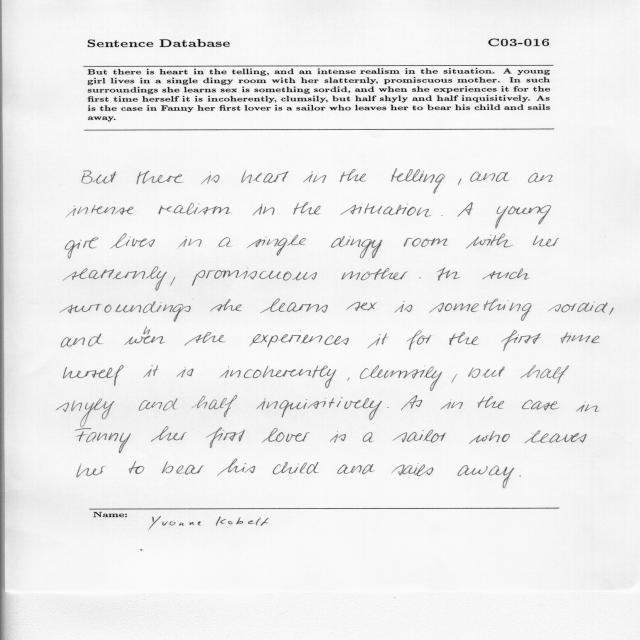word: (257, 397, 382, 420), (60, 301, 191, 322), (220, 365, 337, 388), (63, 267, 167, 291), (429, 299, 532, 321), (360, 365, 442, 391), (192, 270, 317, 286), (249, 331, 349, 348), (57, 398, 115, 427), (75, 427, 131, 453), (391, 169, 445, 194), (457, 465, 514, 488), (495, 205, 551, 228), (341, 203, 432, 217), (64, 365, 124, 386), (247, 235, 306, 256), (331, 236, 382, 258), (192, 396, 237, 418), (260, 299, 328, 313), (520, 365, 569, 384), (159, 203, 232, 215), (501, 330, 541, 351), (206, 427, 245, 448), (525, 431, 587, 444), (341, 268, 408, 280), (124, 327, 165, 345), (67, 205, 134, 216), (66, 237, 99, 259), (262, 428, 310, 443), (466, 234, 513, 249), (393, 430, 447, 443), (110, 234, 155, 249), (548, 302, 608, 313), (217, 459, 255, 476), (137, 171, 184, 184), (242, 170, 289, 183), (61, 334, 103, 348), (184, 332, 226, 346), (482, 268, 530, 280), (273, 462, 319, 474), (162, 462, 204, 475), (392, 463, 434, 476), (151, 427, 187, 442), (469, 431, 510, 444), (139, 398, 178, 411), (407, 330, 431, 350), (468, 366, 505, 378), (82, 171, 116, 184), (470, 171, 509, 182), (561, 332, 600, 343), (210, 299, 242, 312), (403, 238, 448, 247), (449, 332, 479, 345), (522, 400, 560, 410), (337, 464, 375, 474), (77, 464, 106, 477), (340, 169, 366, 182), (478, 396, 504, 409), (293, 203, 321, 215), (401, 395, 422, 410), (533, 235, 559, 247), (177, 236, 202, 248), (368, 333, 388, 348), (437, 268, 460, 281), (347, 302, 378, 311), (303, 171, 326, 183), (253, 204, 275, 216), (201, 172, 220, 185), (528, 173, 552, 183), (457, 202, 473, 217), (577, 402, 600, 412), (395, 301, 413, 313), (144, 365, 159, 378), (129, 461, 144, 474), (330, 431, 346, 443), (177, 367, 194, 378), (440, 402, 463, 410), (219, 237, 231, 247), (363, 432, 373, 442), (451, 374, 457, 383), (170, 277, 175, 286), (609, 307, 614, 315), (458, 179, 461, 186), (347, 378, 350, 381), (441, 215, 443, 216), (419, 278, 421, 279), (387, 407, 389, 408), (519, 476, 521, 477)
